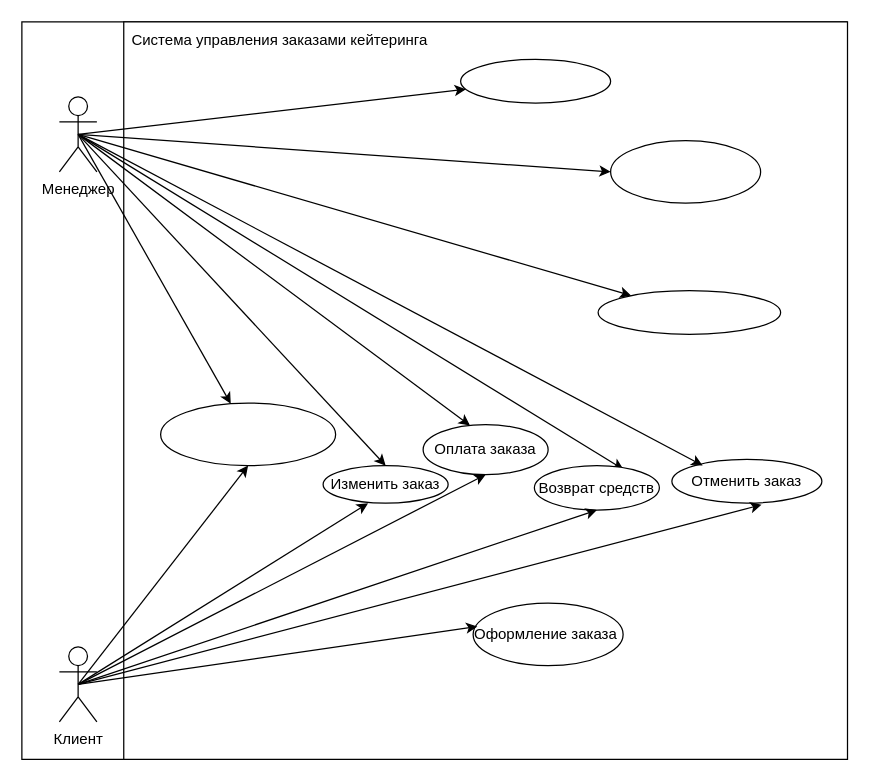
Some shapes in this 870 by 781 pixel diagram are drawn without their labels. The centre of each missing label's shape, as x and y in pixels:
Обработать заказ: (535,80)
Отслеживать статус заказа: (247,434)
Подтвердить заказ: (689,311)
Сформировать и согласовать смету: (685,171)
